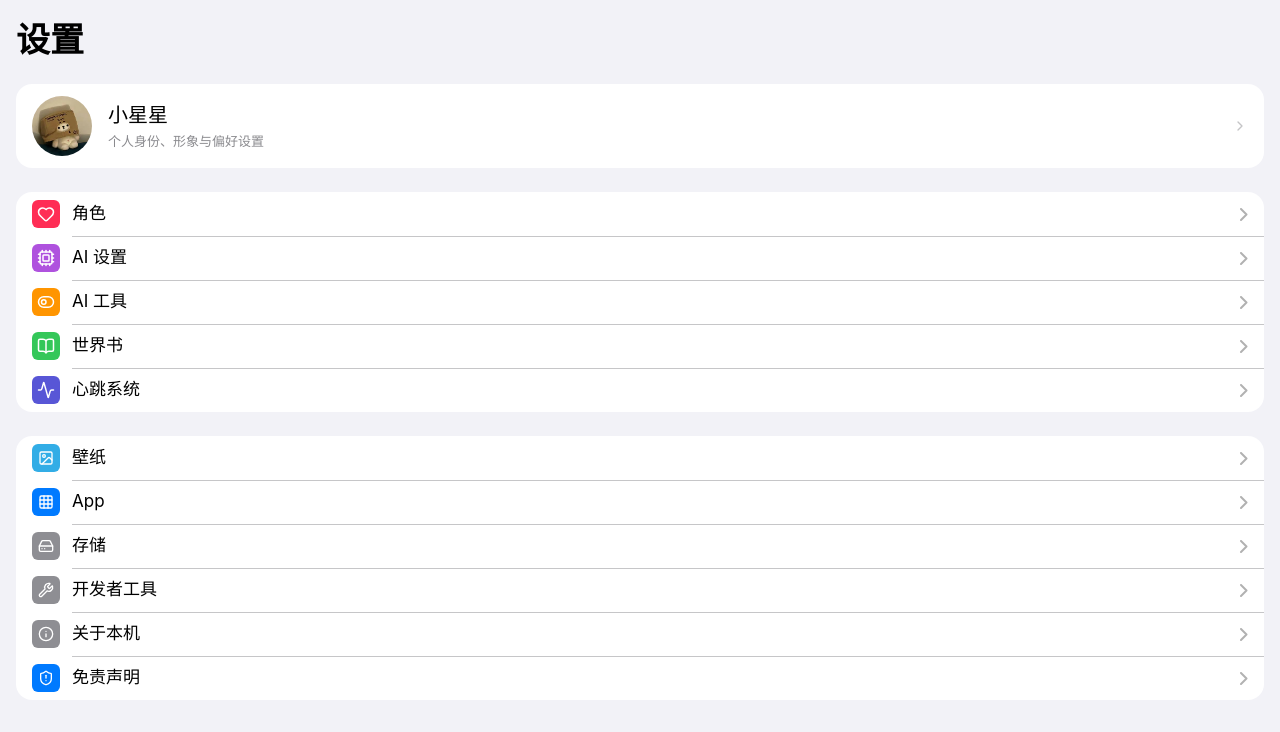
StoragePage › navigates to storage page from settings home
The width and height of the screenshot is (1280, 732).
Click the button with test id "list-row-存储" at (89, 545), box 16,524 -> 1264,568
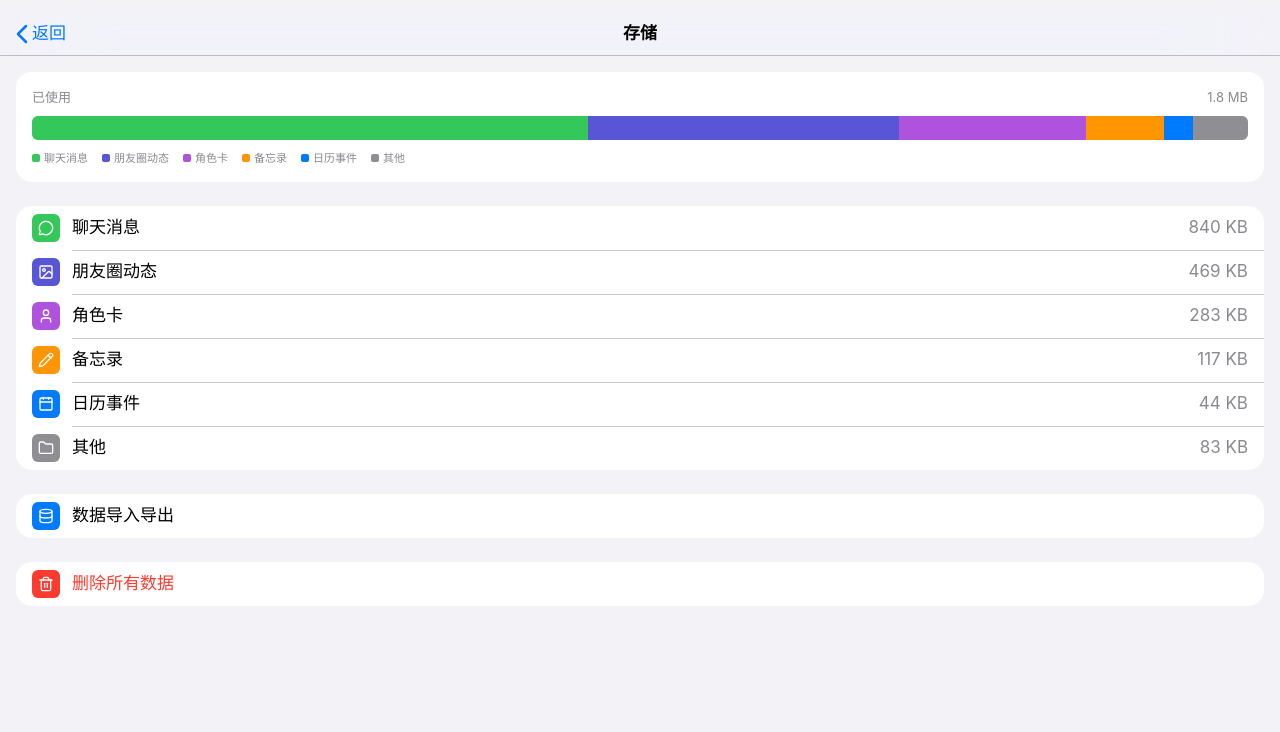
Expected: the element with test id "storage-page" is shown
